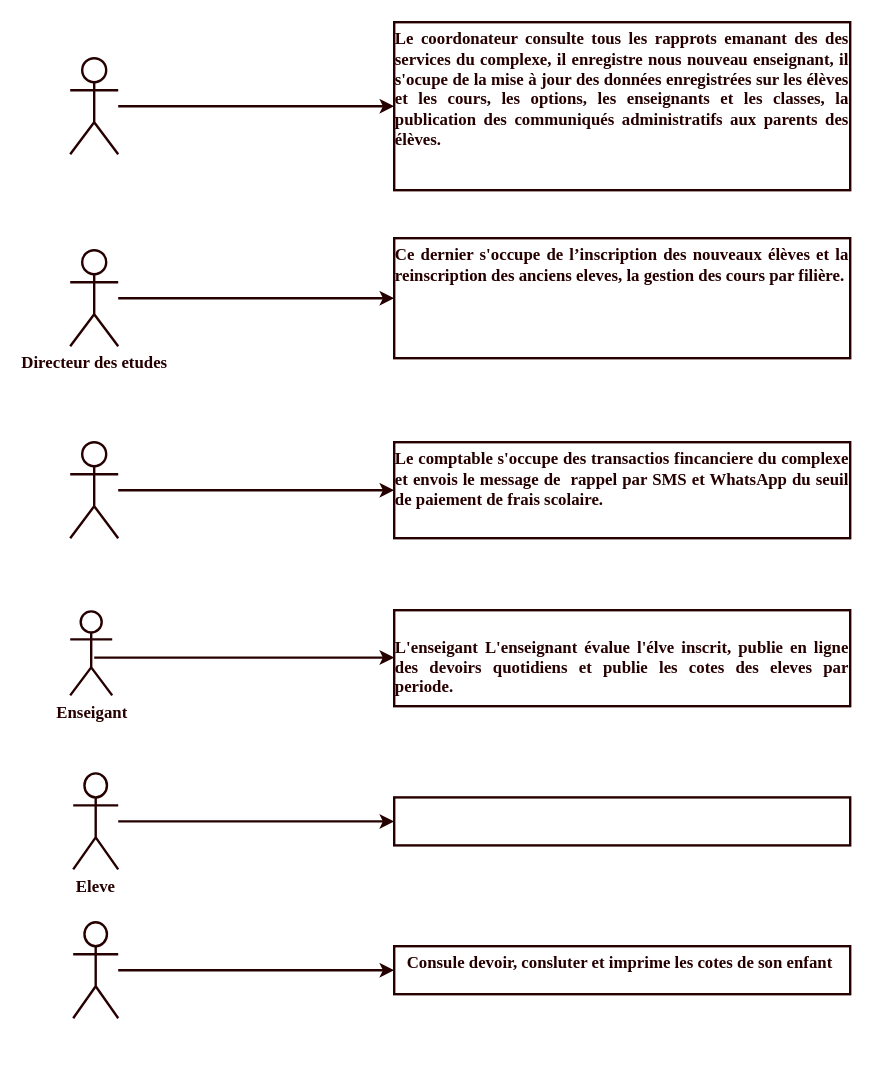
Some shapes in this 871 by 1067 pixel diagram are drawn without their labels. Each missing label, with the centre of its shape:
Comptable: the point at 93,489
Consule devoir, consluter et imprime ses cotes: the point at 621,821
Coordonateur: the point at 93,105
Parent/Tuteur: the point at 95,969
